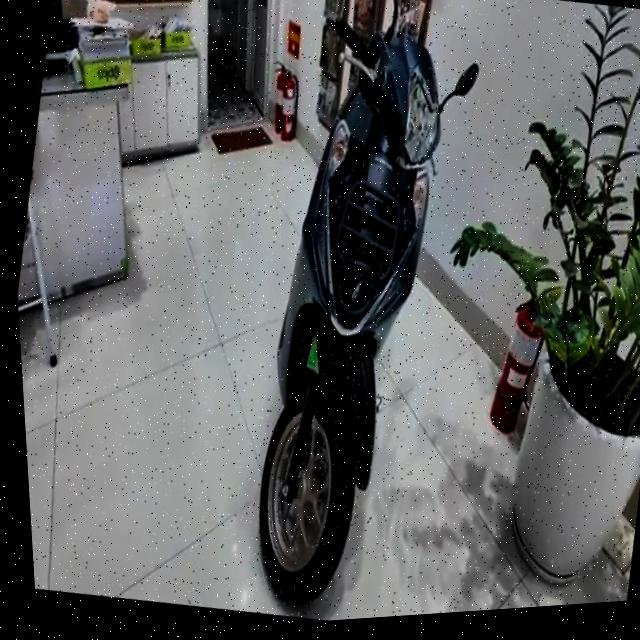motorcycle: (209, 0, 531, 626)
